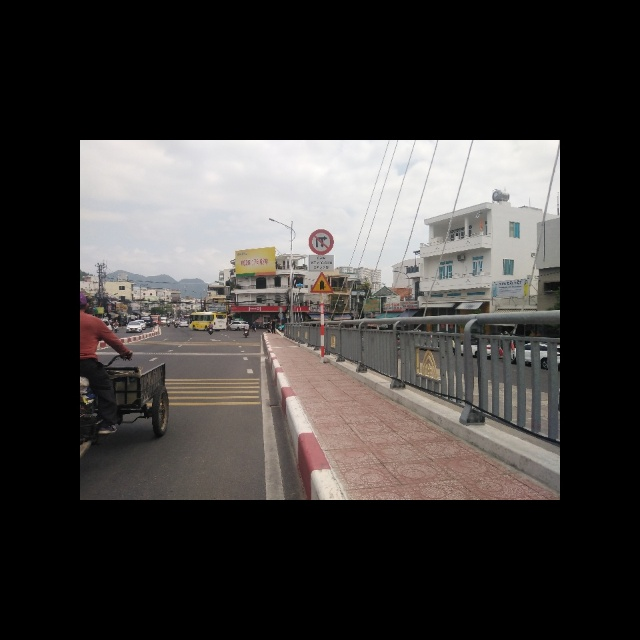Cấm quay đầu và rẽ phải: (308, 228, 334, 255)
Giao nhau với đường không ưu tiên: (310, 271, 334, 293)
